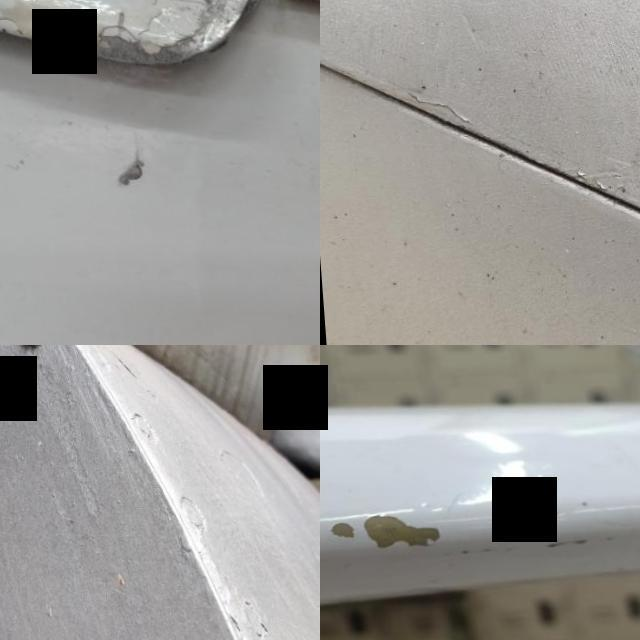Crack: (0, 0, 314, 99), (320, 455, 521, 564), (79, 136, 174, 187)
Missing_Fastener: (591, 120, 640, 225)
